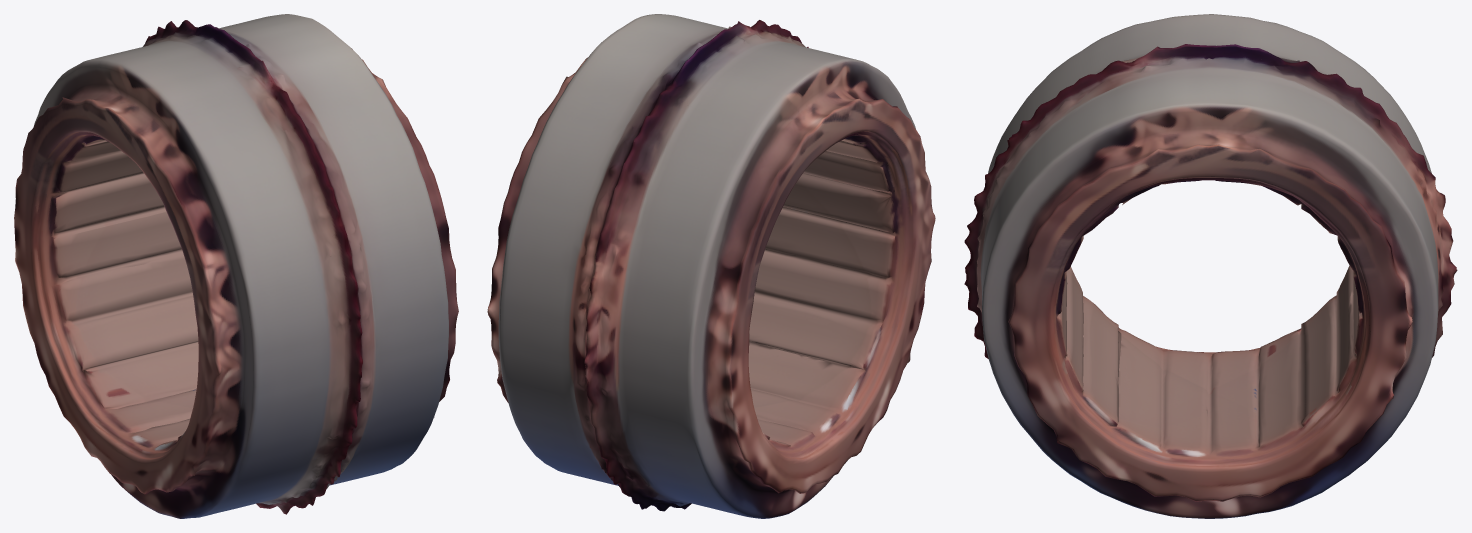
File: estator2.glb
The picture shows the model from 3 angles, left to right: view 1: azimuth 30°, elevation 25°; view 2: azimuth 150°, elevation 25°; view 3: azimuth 270°, elevation 25°; orthographic projection. The views are drawn at different scales.
Visible parts, largest first — view 1: model; view 2: model; view 3: model.
Part boxes in pixels (x1,y1,x2,y2): model: (14,14,458,518); model: (487,14,935,518); model: (964,14,1457,518).
Size of the model in its own units: 1.05 by 1.89 by 1.9.
1 material, 1 textured.
